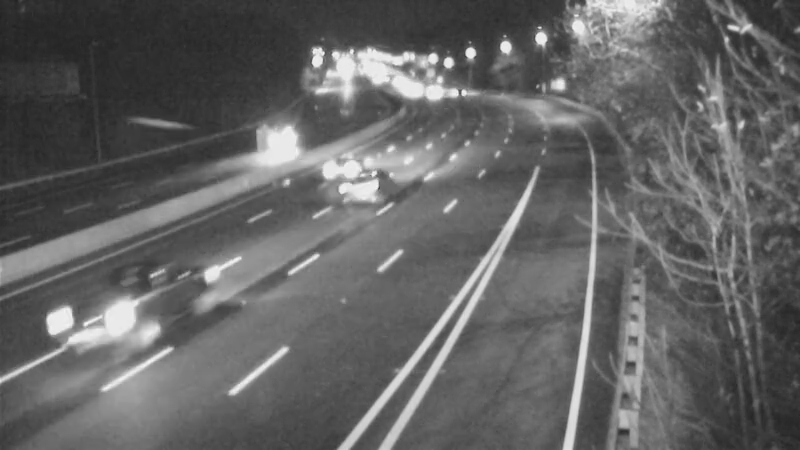vehicle: (38, 269, 148, 379), (306, 128, 386, 208), (316, 145, 396, 225), (431, 68, 481, 118), (409, 69, 459, 119), (390, 68, 440, 118), (248, 118, 298, 168)
